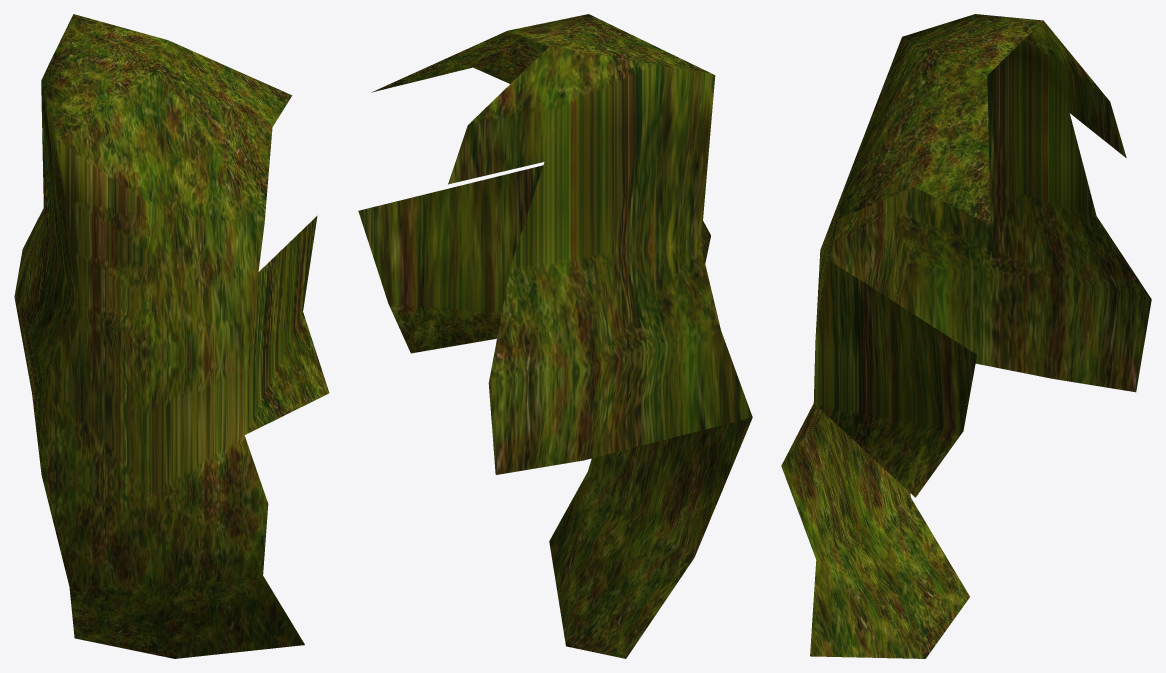
The model's file is TROLLHOLE02_RM_PSURF156.fbx.
The picture shows the model from 3 angles, left to right: view 1: azimuth 30°, elevation 25°; view 2: azimuth 150°, elevation 25°; view 3: azimuth 270°, elevation 25°; orthographic projection. The views are drawn at different scales.
Visible parts, largest first — view 1: TROLLHOLE02_RM_PSURF156; view 2: TROLLHOLE02_RM_PSURF156; view 3: TROLLHOLE02_RM_PSURF156.
Part boxes in pixels (x1,y1,x2,y2): TROLLHOLE02_RM_PSURF156: (14,14,329,658); TROLLHOLE02_RM_PSURF156: (358,14,752,658); TROLLHOLE02_RM_PSURF156: (781,14,1151,658).
Size of the model in its own units: 42444 by 77182 by 41976.
1 material, 1 textured.
